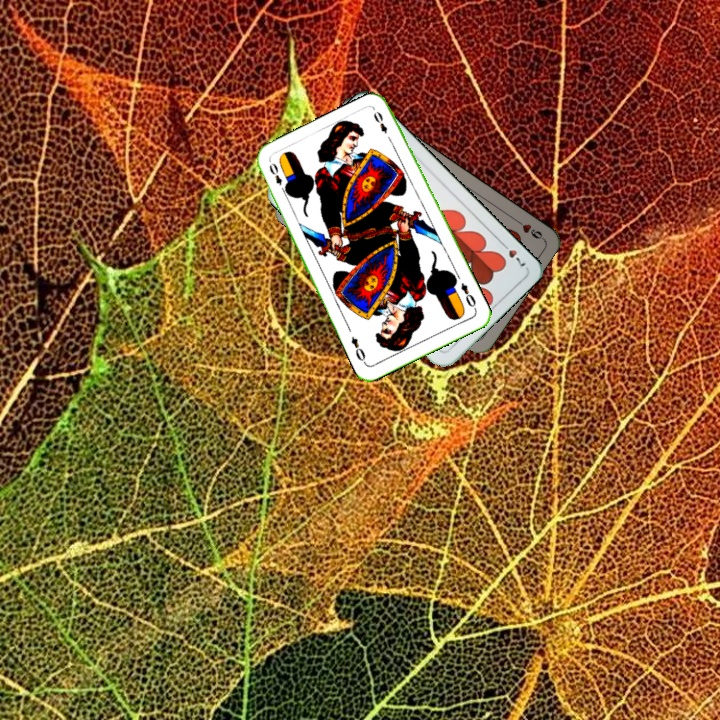EO: (265, 159, 289, 196), (457, 278, 478, 310)
H7: (496, 237, 528, 269)
H9: (510, 215, 546, 242)
